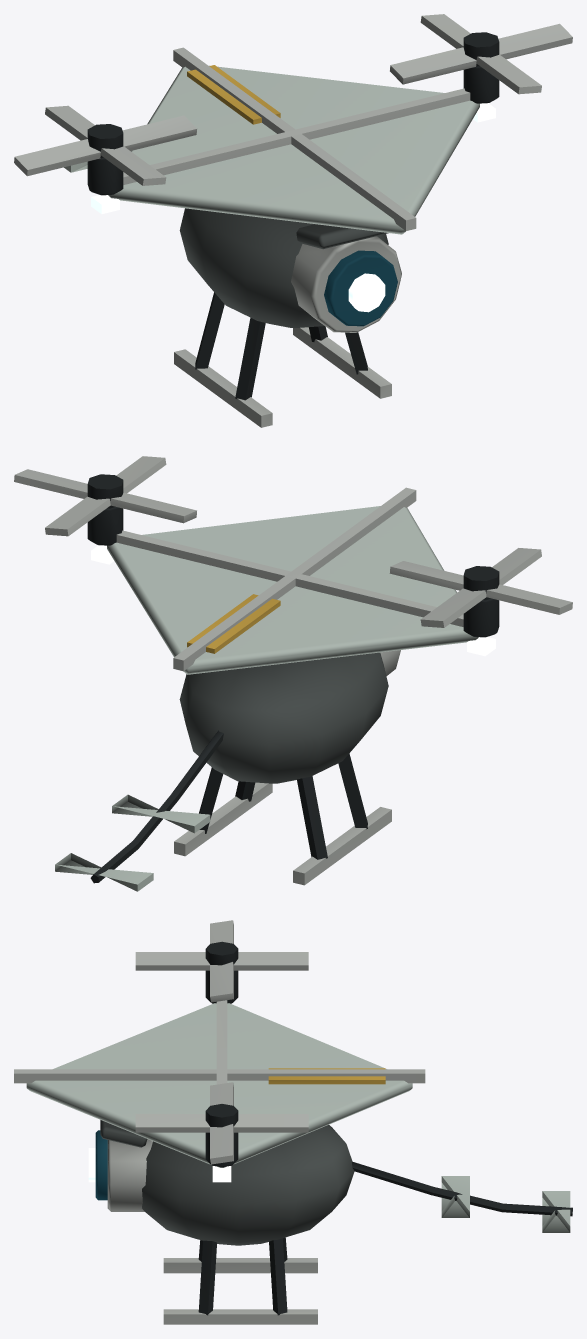
Rendered from kite.glb.
3 renders of one model, top to bottom at view 1: azimuth 30°, elevation 25°; view 2: azimuth 150°, elevation 25°; view 3: azimuth 270°, elevation 25°, orthographic. The views are drawn at different scales.
Visible parts, largest first — view 1: Sail, Pod, Spars, Rotor_blades.001, Rotor_blades, Lens_barrel, Skids.001, Lens_glass, Skids, Rotor_pylons, Sail_stripe, Lens_hood (+4 smaller); view 2: Sail, Pod, Spars, Rotor_blades, Rotor_blades.001, Skids.001, Skids, Tail_bows, Rotor_pylons, Tail_line, Sail_stripe, Rotor_hub (+2 smaller); view 3: Sail, Pod, Spars, Skids.001, Rotor_blades, Rotor_blades.001, Lens_barrel, Skids, Tail_bows, Tail_line, Sail_stripe, Lens_glass (+4 smaller).
Boxes of the visible parts, bbox=[...] form: Sail: bbox=[108, 65, 479, 234]; Pod: bbox=[179, 208, 388, 327]; Spars: bbox=[123, 47, 470, 230]; Rotor_blades.001: bbox=[390, 14, 572, 94]; Rotor_blades: bbox=[14, 105, 196, 185]; Lens_barrel: bbox=[291, 236, 401, 332]; Skids.001: bbox=[174, 327, 391, 427]; Lens_glass: bbox=[324, 250, 397, 326]; Skids: bbox=[195, 292, 367, 400]; Rotor_pylons: bbox=[87, 66, 499, 195]; Sail_stripe: bbox=[187, 65, 280, 124]; Lens_hood: bbox=[296, 224, 388, 249]; Sail: bbox=[107, 506, 478, 674]; Pod: bbox=[179, 652, 388, 783]; Spars: bbox=[116, 487, 463, 671]; Rotor_blades: bbox=[389, 548, 572, 627]; Rotor_blades.001: bbox=[14, 456, 196, 536]; Skids.001: bbox=[174, 782, 391, 885]; Skids: bbox=[199, 753, 367, 859]; Tail_bows: bbox=[55, 794, 210, 891]; Rotor_pylons: bbox=[87, 507, 499, 637]; Tail_line: bbox=[90, 730, 223, 883]; Sail_stripe: bbox=[187, 594, 280, 653]; Rotor_hub: bbox=[463, 566, 499, 600]; Sail: bbox=[26, 1003, 412, 1167]; Pod: bbox=[142, 1125, 354, 1245]; Spars: bbox=[14, 1000, 425, 1084]; Skids.001: bbox=[163, 1258, 317, 1324]; Rotor_blades: bbox=[135, 920, 308, 1002]; Rotor_blades.001: bbox=[135, 1082, 308, 1164]; Lens_barrel: bbox=[107, 1139, 152, 1211]; Skids: bbox=[198, 1237, 287, 1315]; Tail_bows: bbox=[441, 1176, 570, 1232]; Tail_line: bbox=[352, 1162, 572, 1216]; Sail_stripe: bbox=[268, 1068, 385, 1084]; Lens_glass: bbox=[95, 1130, 107, 1200].
Size of the model in its own units: 2.38 by 1.26 by 2.39.
